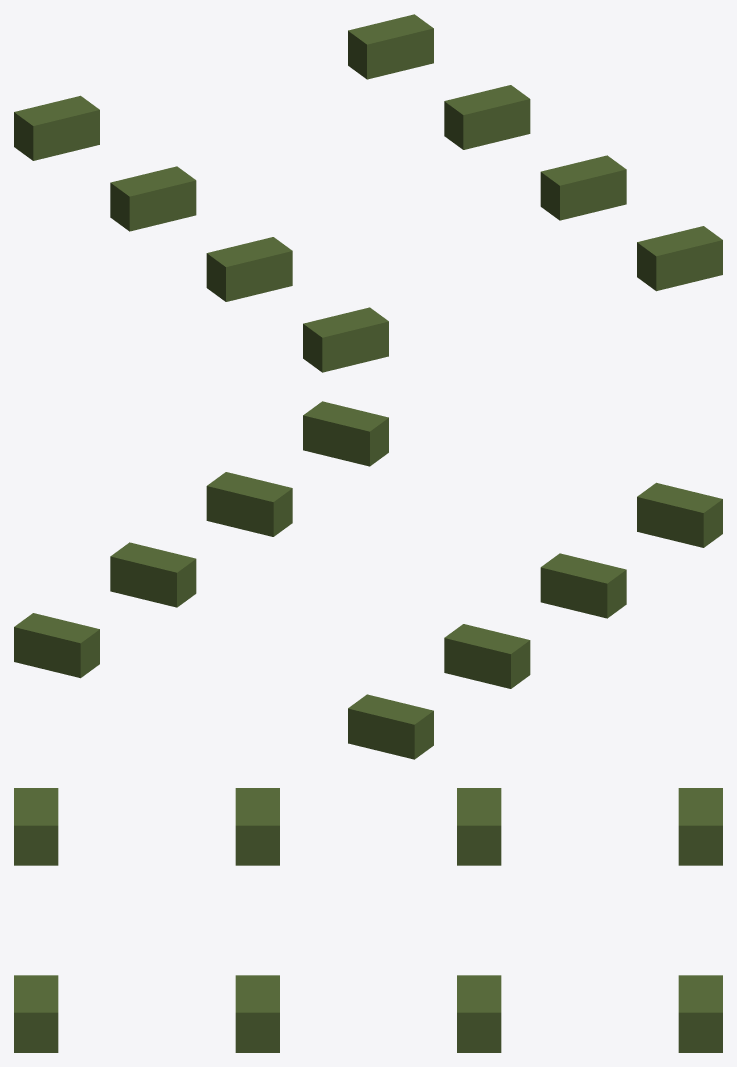
Rendered from cm_tracks.glb.
3 renders of one model, top to bottom at view 1: azimuth 30°, elevation 25°; view 2: azimuth 150°, elevation 25°; view 3: azimuth 270°, elevation 25°, orthographic. The views are drawn at different scales.
Parts seen in each view (by area): view 1: cm_tracks_body; view 2: cm_tracks_body; view 3: cm_tracks_body.
Boxes of the visible parts, x1,y1,x2,y2 form: cm_tracks_body: (14,14,722,372); cm_tracks_body: (14,401,722,759); cm_tracks_body: (14,788,722,1052).
Size of the model in its own units: 0.75 by 0.0625 by 1.
1 material, 1 textured.
